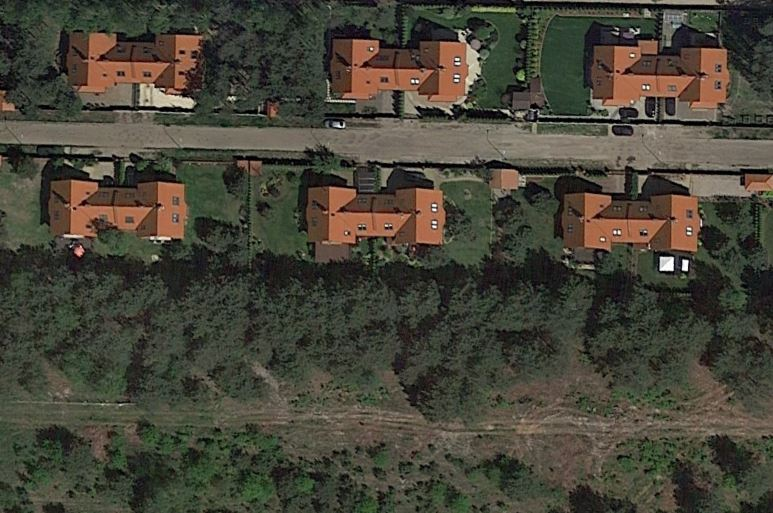terrace house: (43, 173, 192, 245), (298, 181, 447, 253), (558, 187, 707, 259), (583, 34, 732, 106), (324, 32, 473, 104), (61, 22, 210, 94)
